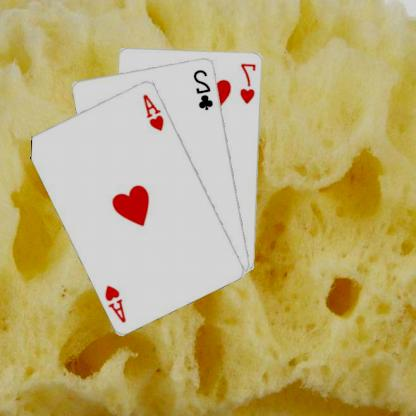2C: (193, 66, 217, 112)
7H: (240, 60, 259, 105)
AH: (104, 282, 130, 324), (142, 91, 168, 132)
